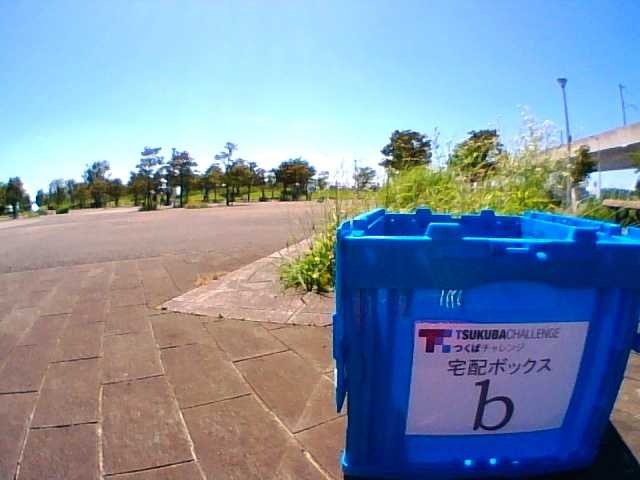blue_box: (335, 207, 636, 475)
tag_b: (417, 326, 562, 430)
